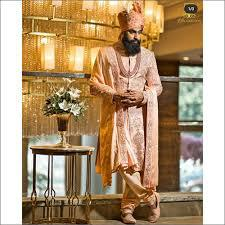Desgin sherwani: (91, 44, 158, 185)
